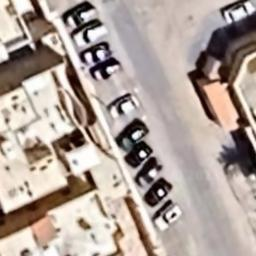SUV: (68, 22, 110, 48), (154, 198, 182, 235), (62, 0, 96, 28)
sedan: (116, 119, 151, 151), (106, 92, 142, 120), (136, 156, 164, 190), (78, 42, 116, 66), (144, 178, 172, 208), (124, 141, 152, 168)
van: (88, 56, 128, 82)
